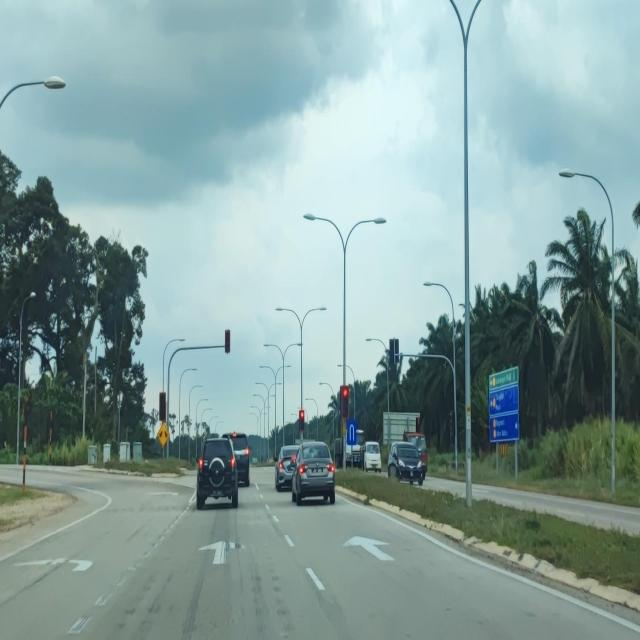car: (290, 442, 336, 506), (387, 442, 427, 486), (274, 445, 301, 492)
traffic light: (339, 386, 349, 418), (224, 330, 231, 354)
